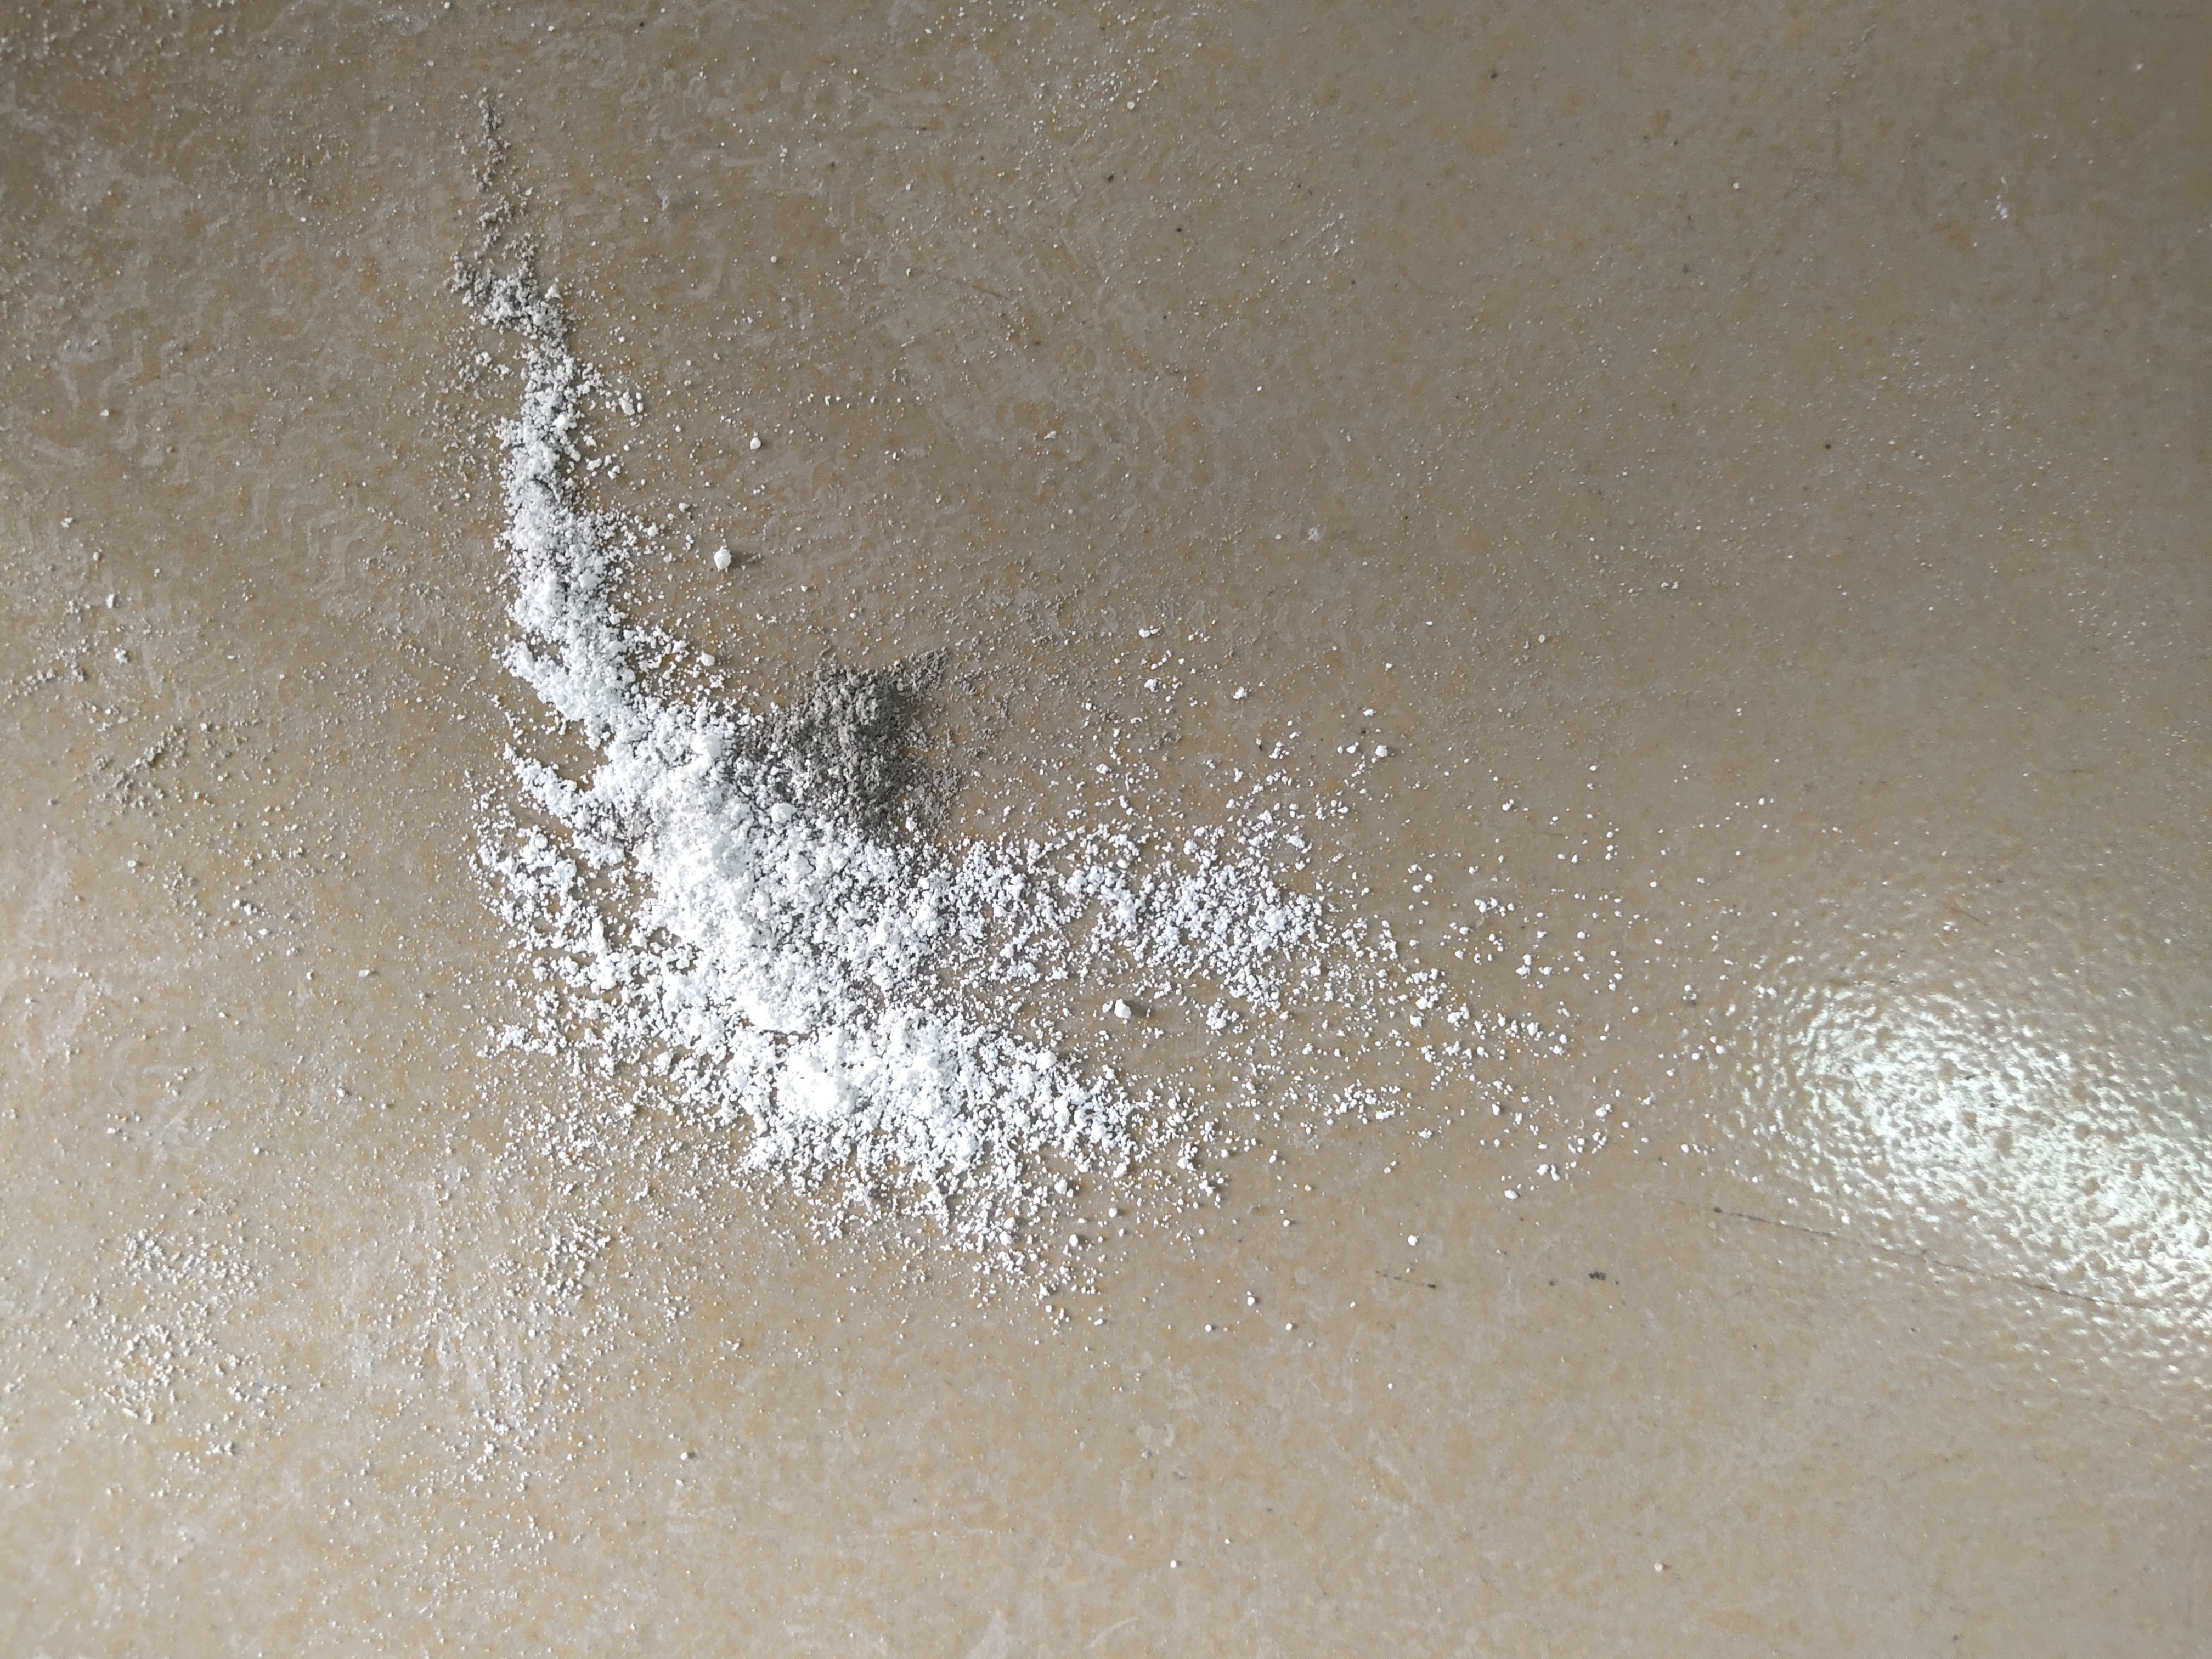ash pile: (456, 78, 1611, 1321)
reflection: (1752, 965, 2212, 1335)
